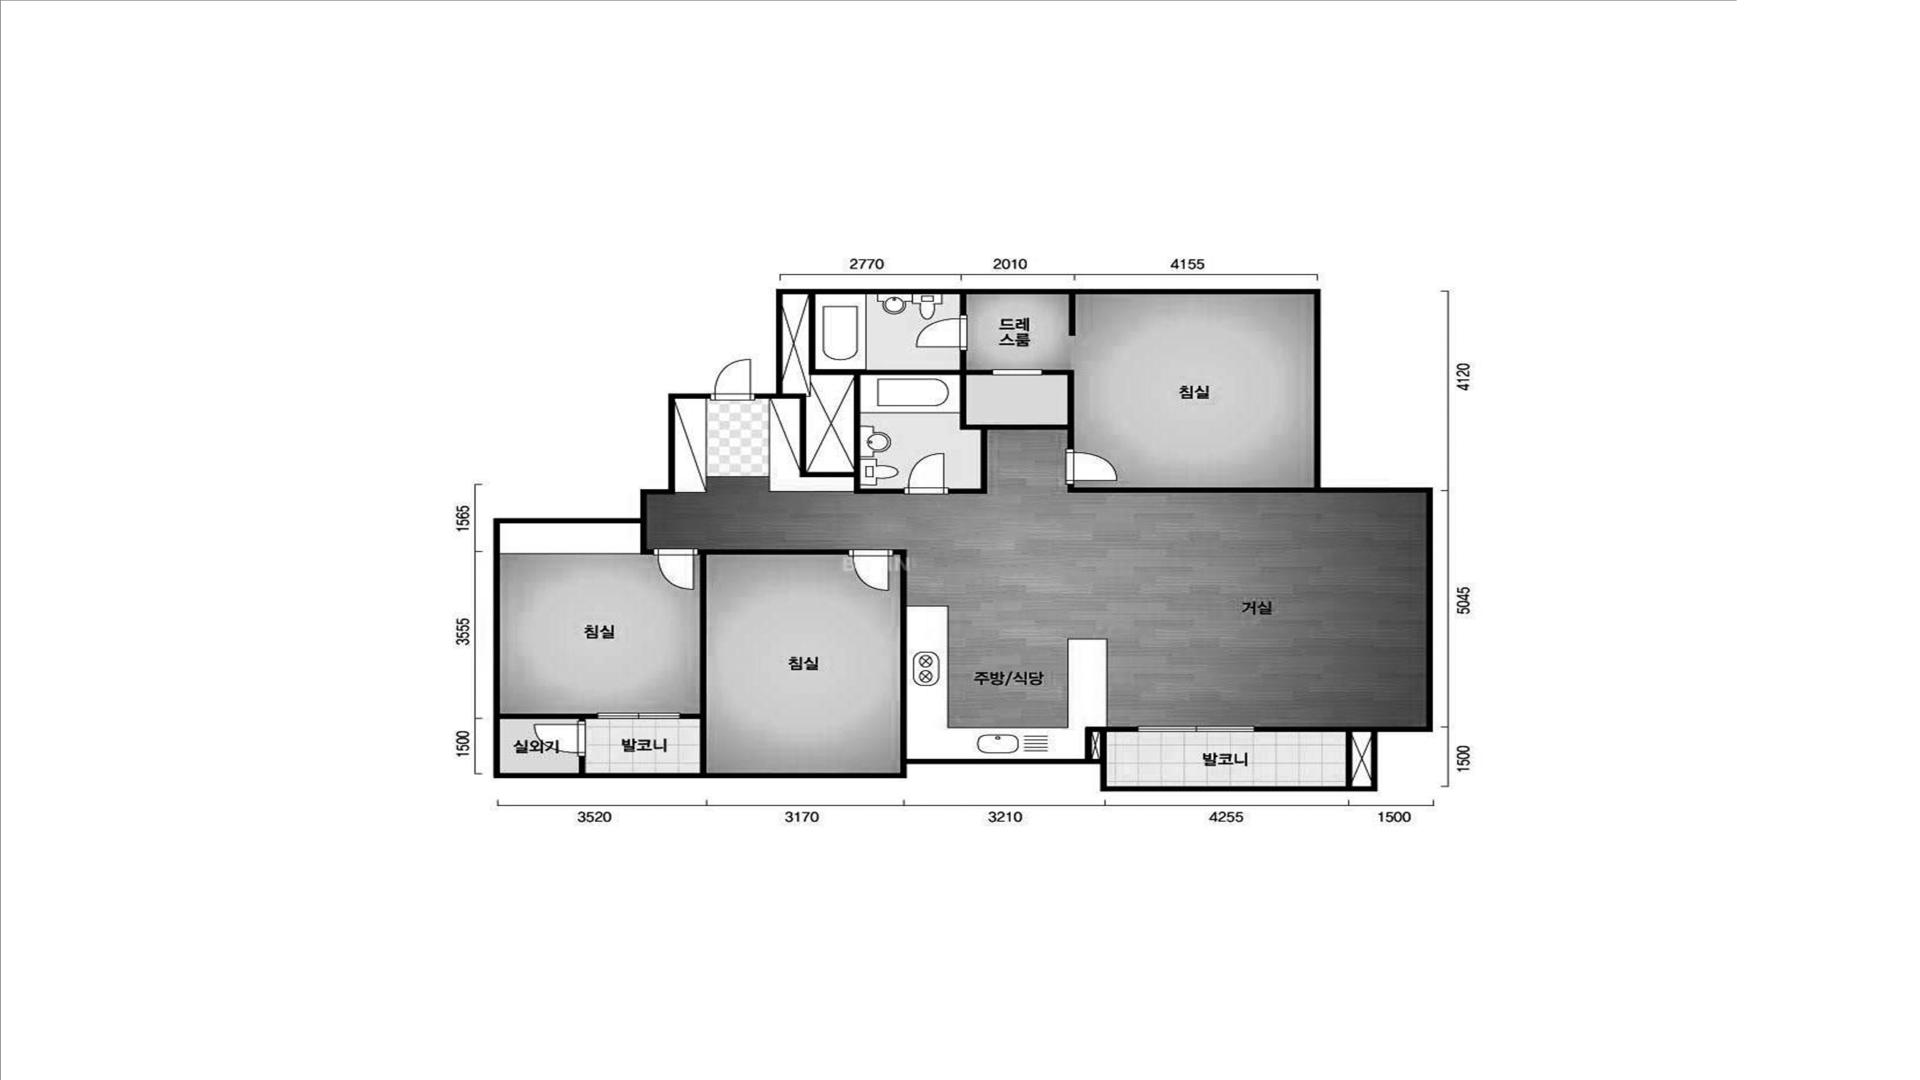door: (653, 549, 700, 591), (902, 451, 948, 493), (711, 359, 756, 401), (849, 549, 894, 591), (915, 315, 968, 351), (1064, 450, 1118, 484), (534, 721, 585, 757)
wall: (493, 289, 1433, 791), (783, 294, 1075, 495), (680, 549, 849, 773), (1255, 727, 1371, 786), (894, 549, 907, 758), (1067, 484, 1313, 493), (1084, 727, 1137, 758), (500, 713, 597, 721), (641, 524, 653, 554), (1068, 294, 1075, 335), (960, 294, 967, 315), (579, 757, 585, 773)
window: (1137, 727, 1255, 732), (597, 712, 680, 719)
